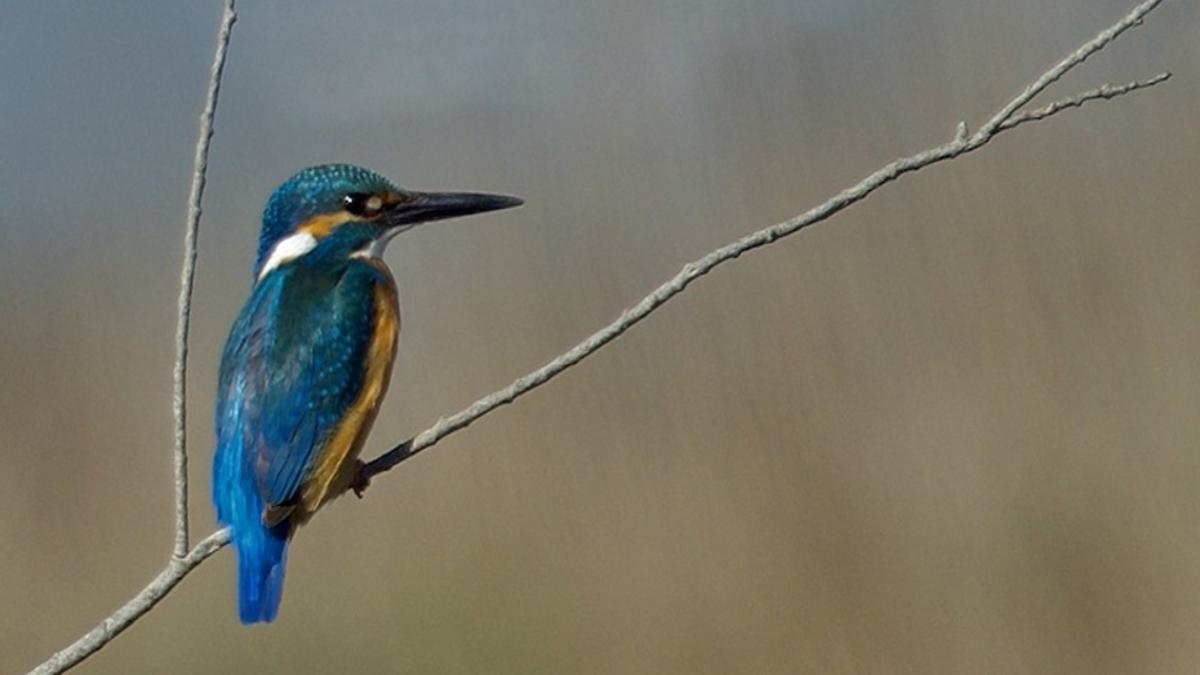kingfisher: (176, 160, 532, 599)
